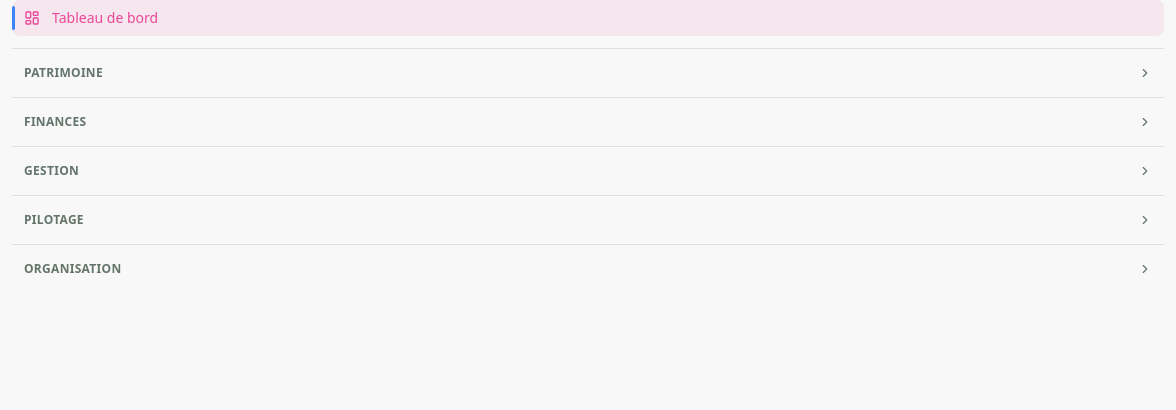
SidebarNavList — groupes repliables (accordéon) › recliquer sur le groupe ouvert le referme
Click the button "Gestion". click: (52, 170)
box: [12,159,1164,183]
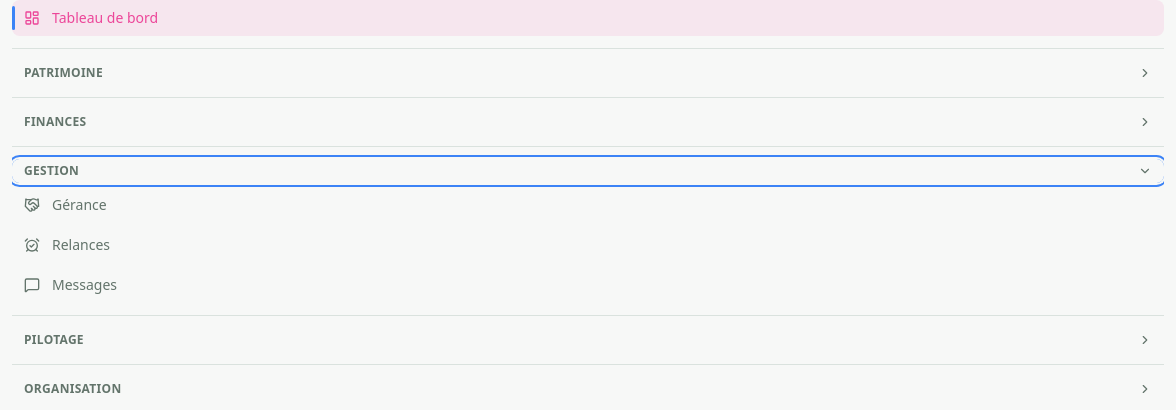
Expected: the button "Gestion" is expanded
Click the button "Gestion". click: (52, 170)
box: [12,159,1164,183]
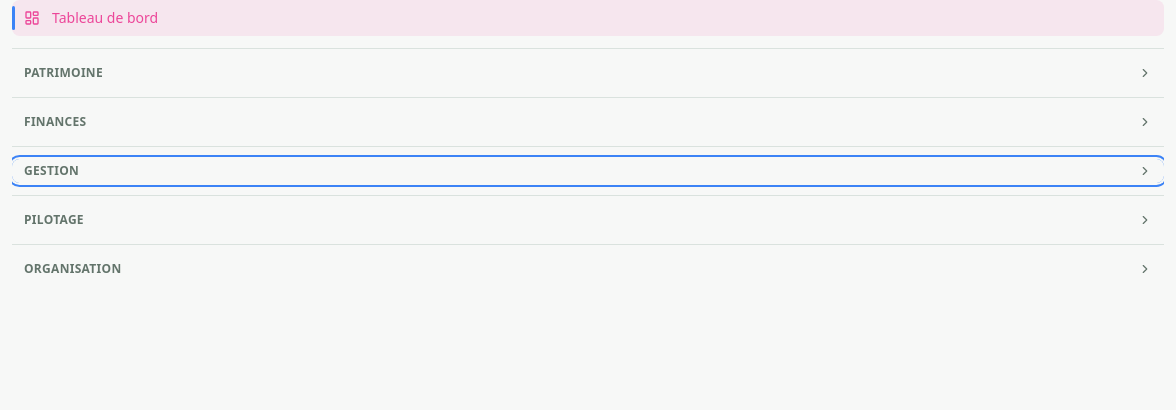
Expected: the button "Gestion" is collapsed, [12,159,1164,183]
